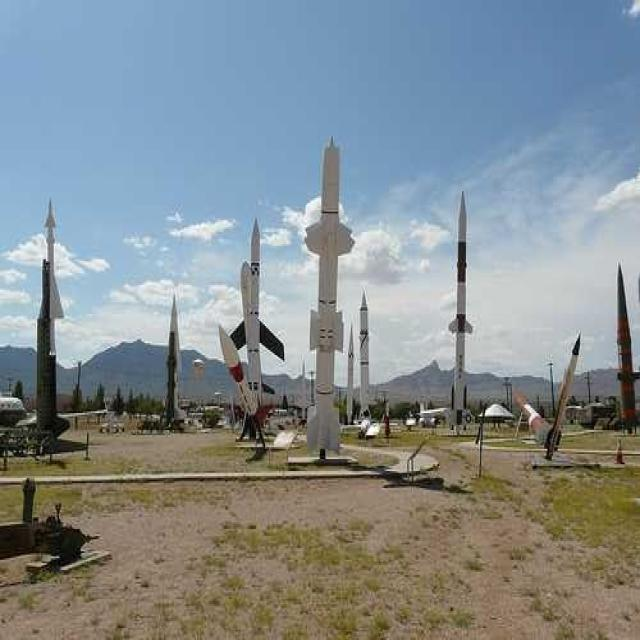missile: (300, 132, 346, 465), (439, 190, 470, 438), (603, 256, 640, 425), (155, 292, 195, 434), (39, 192, 72, 351), (548, 330, 582, 458), (357, 288, 378, 434)
